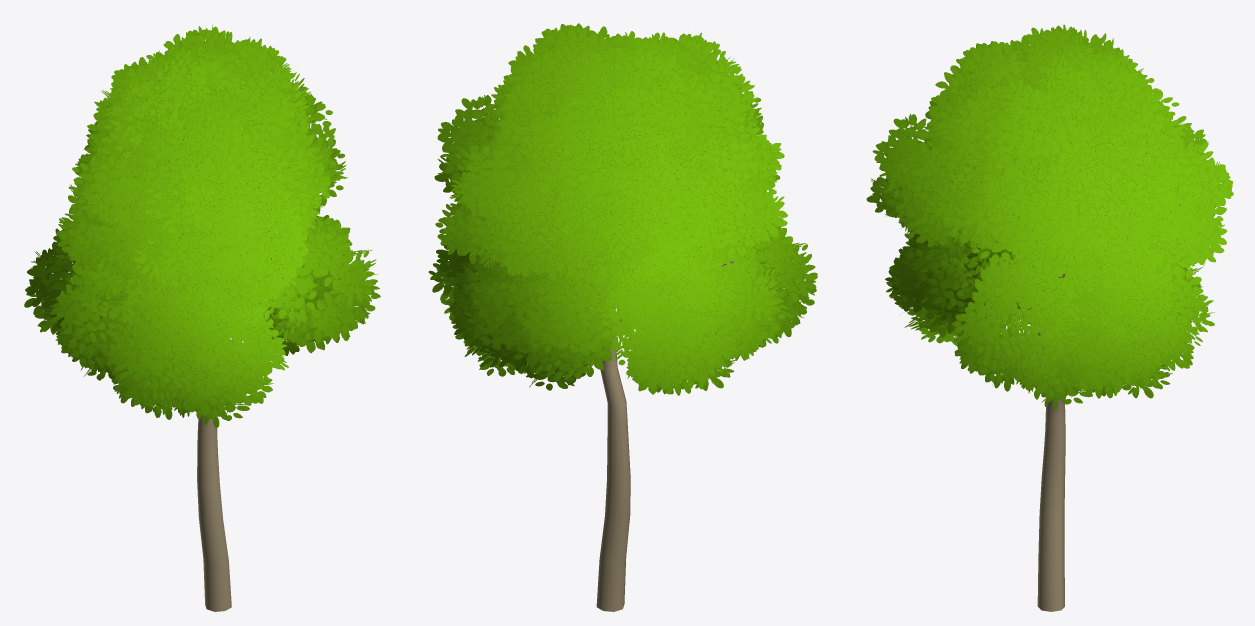
Rendered from approved-tree-7.gltf.
3 renders of one model, left to right at view 1: azimuth 30°, elevation 25°; view 2: azimuth 150°, elevation 25°; view 3: azimuth 270°, elevation 25°, orthographic. The views are drawn at different scales.
Size of the model in its own units: 1.14 by 1.91 by 1.17.
Materials: 2 (1 with a texture image).
